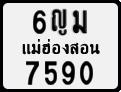letters: (51, 8, 68, 36), (71, 9, 88, 34), (78, 60, 94, 86), (25, 59, 40, 86), (61, 59, 76, 86), (32, 9, 47, 35), (44, 59, 58, 86)
province: (20, 38, 101, 56)
